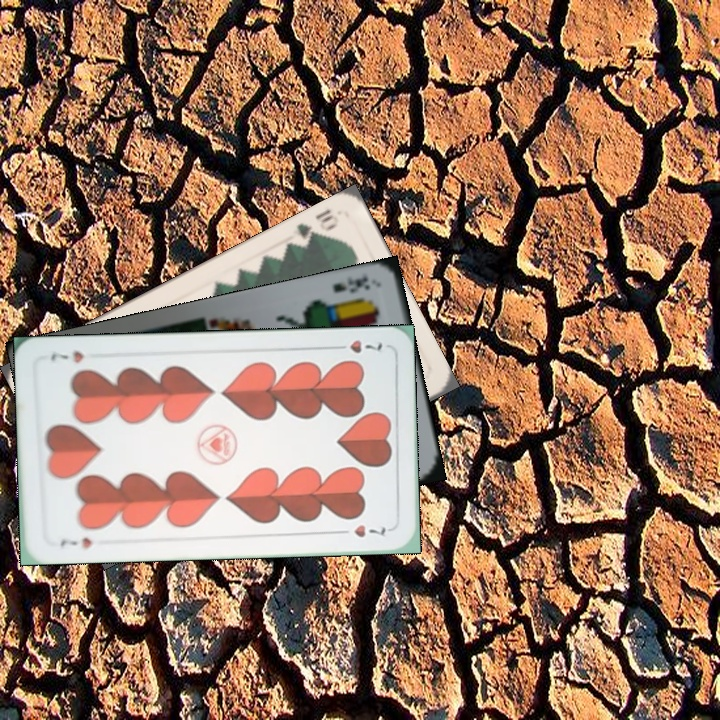EK: (329, 271, 372, 296)
G10: (291, 205, 342, 250)
H7: (329, 335, 385, 355), (56, 534, 95, 552)
